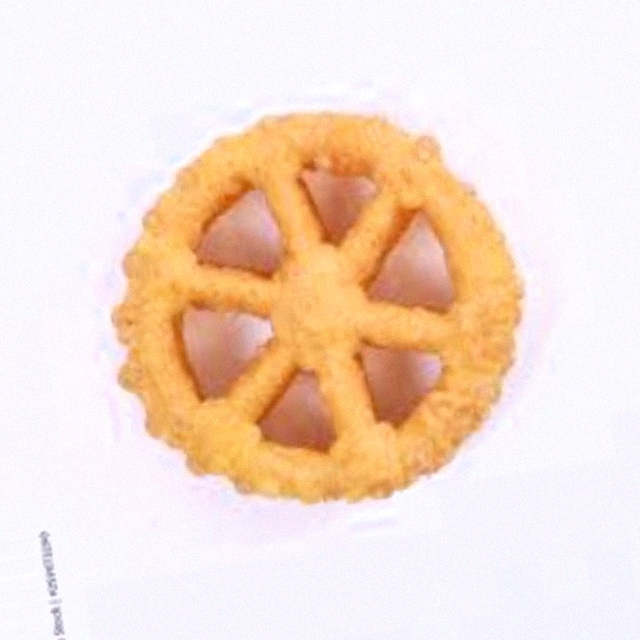Kokis: (117, 126, 523, 514)
